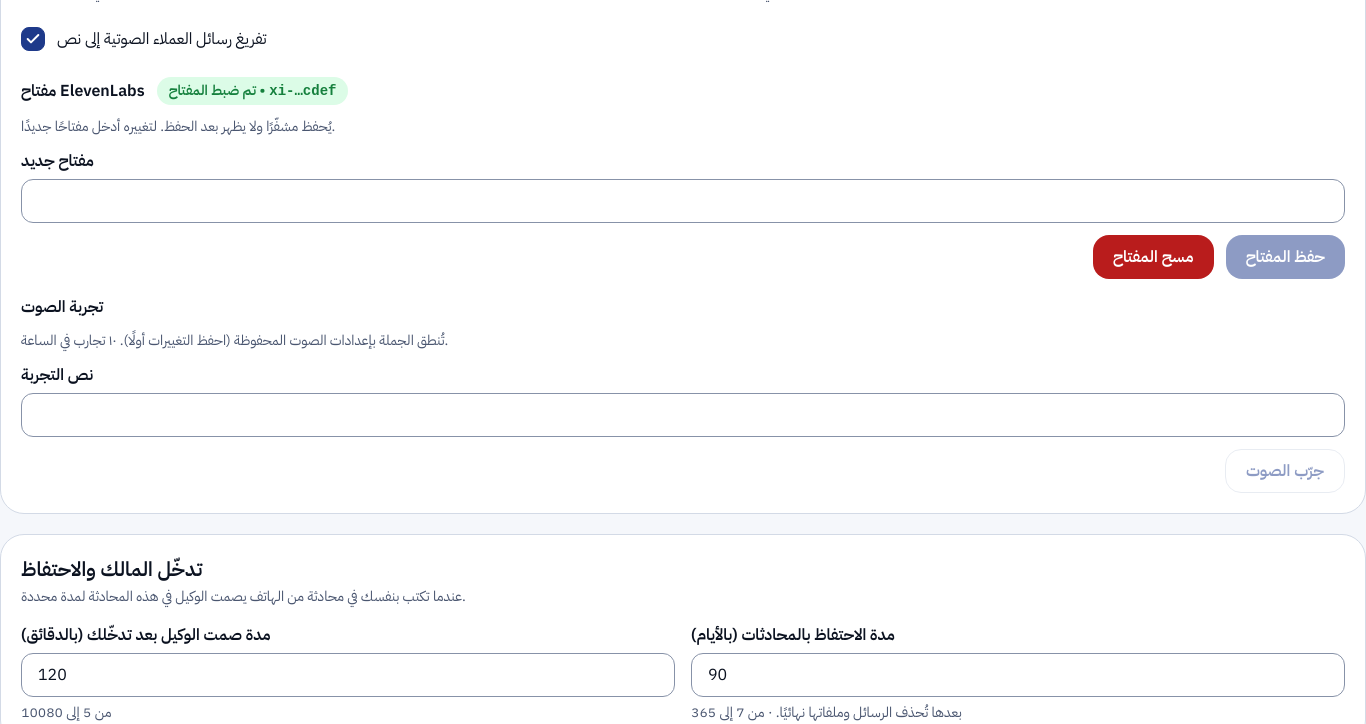
Test case: the Settings tab › a failed voice test › shows the specific reason voice_plan_required and no reference
(page scrolled)
In the field labelled "نص التجربة": [683, 415] box [21,393,1345,437], type "hi"
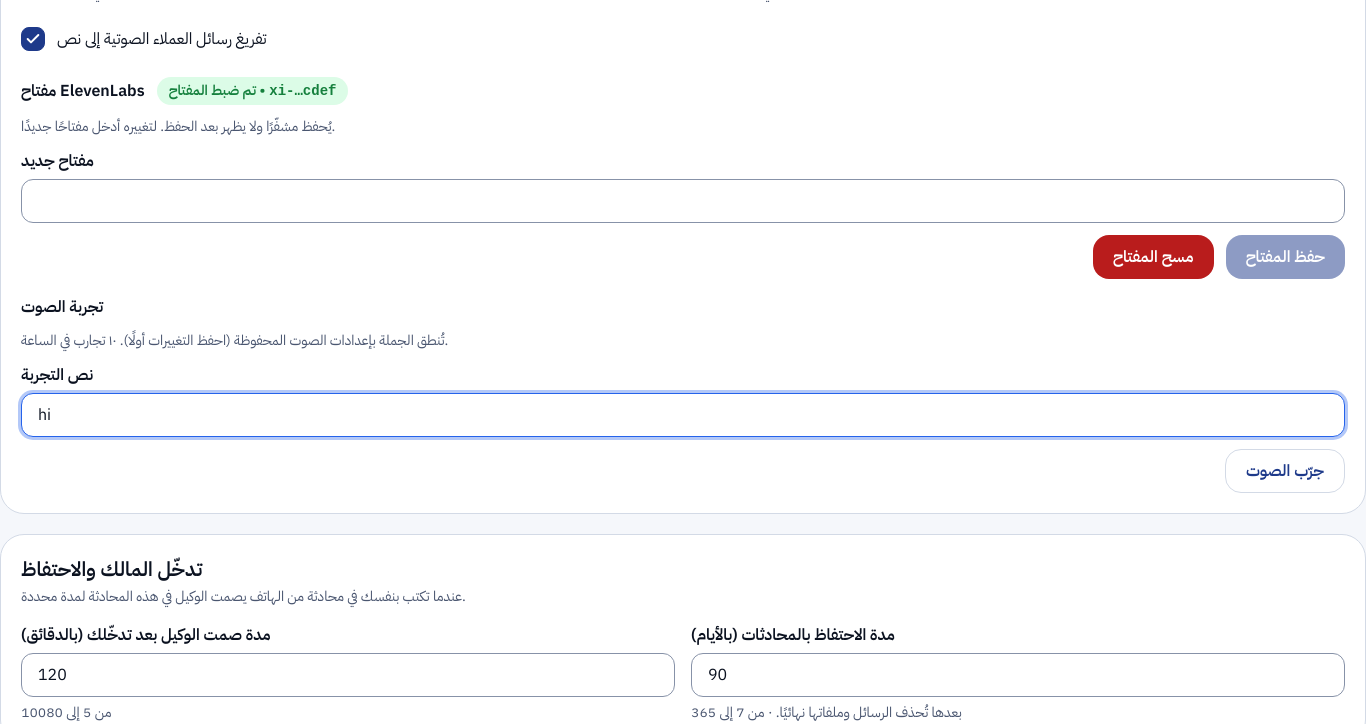
Click the button "جرّب الصوت": [1285, 471] box [1225,449,1345,493]
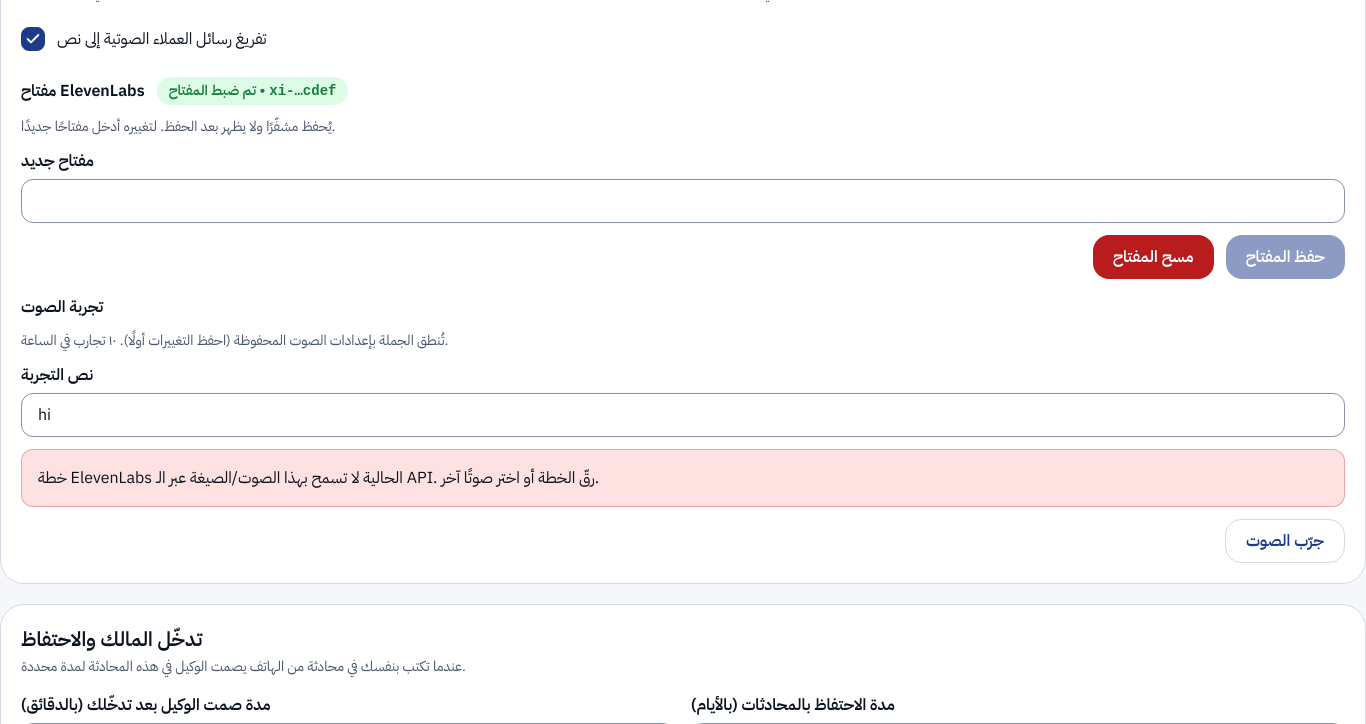
Expected: the message shows "خطة ElevenLabs الحالية لا تسمح بهذا الصوت/الصيغة عبر الـ API. رقّ الخطة أو اختر صوتًا آخر.", [38,466,599,490]
